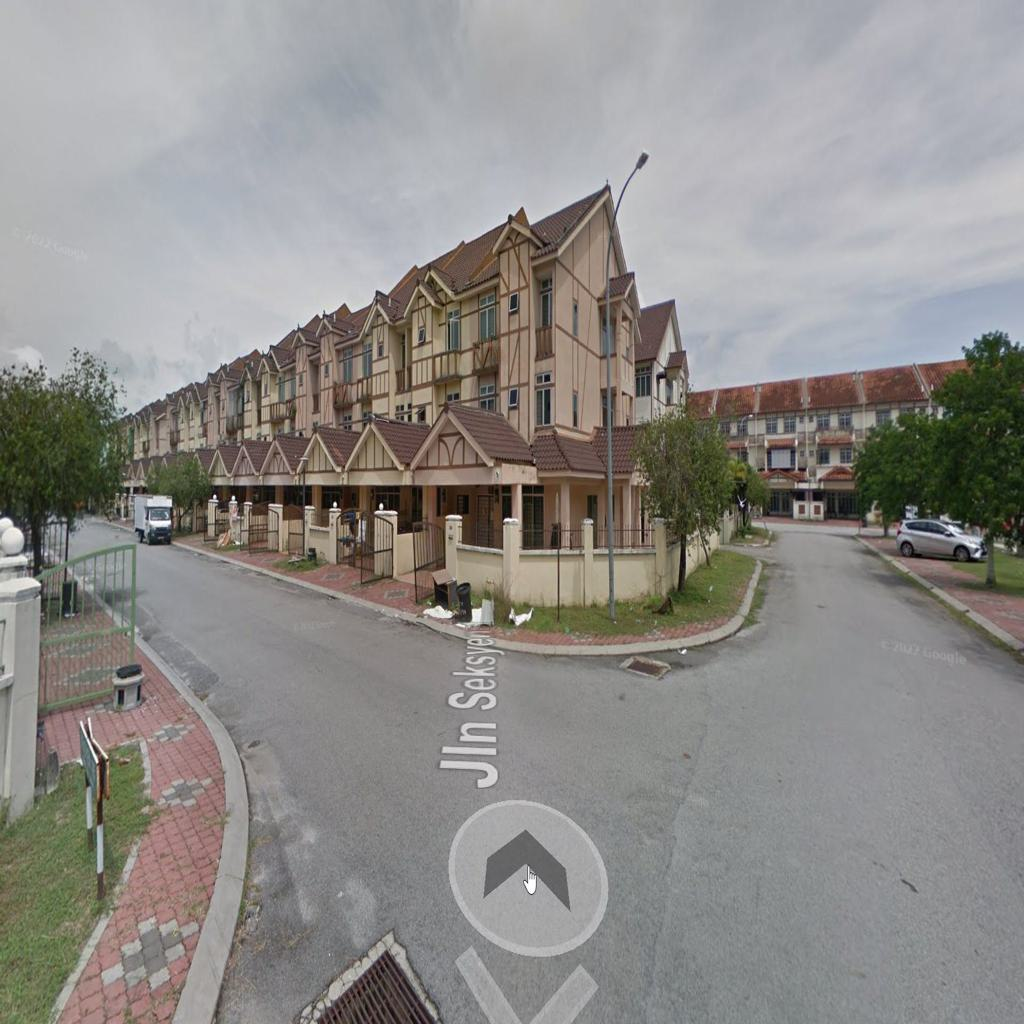Junction: (92, 578, 747, 968)
